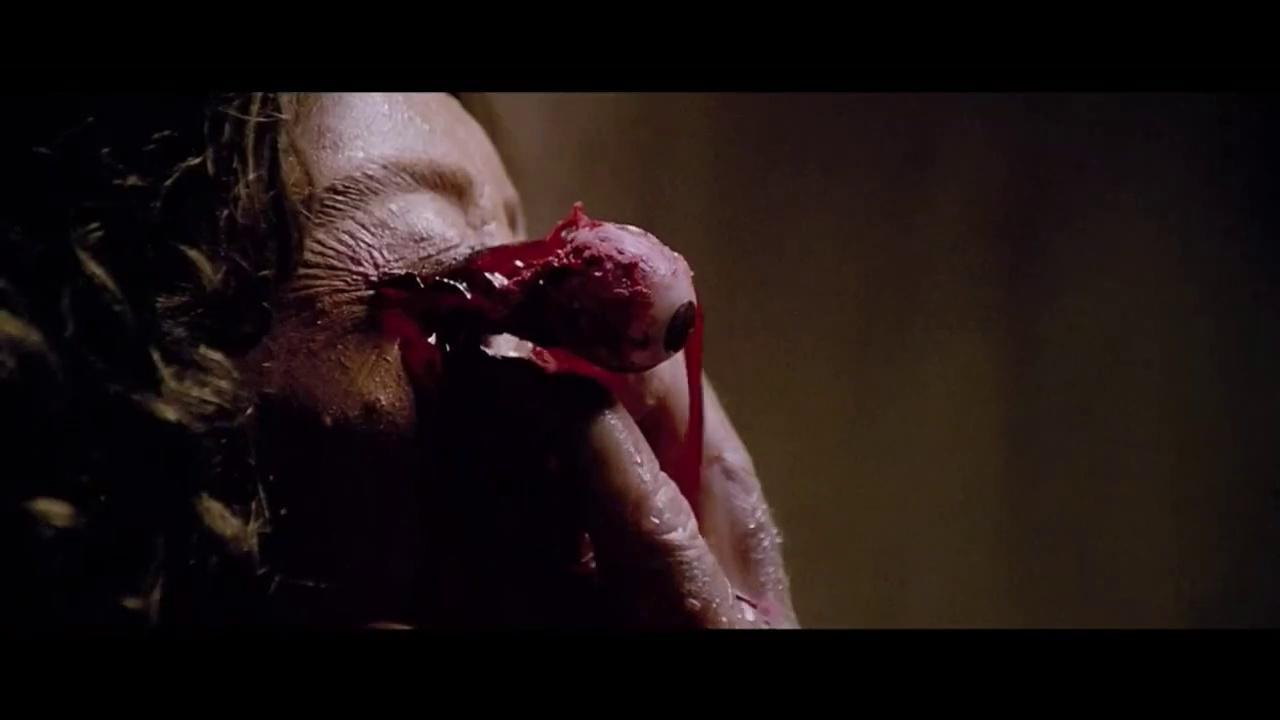Fire: (372, 203, 705, 508)
